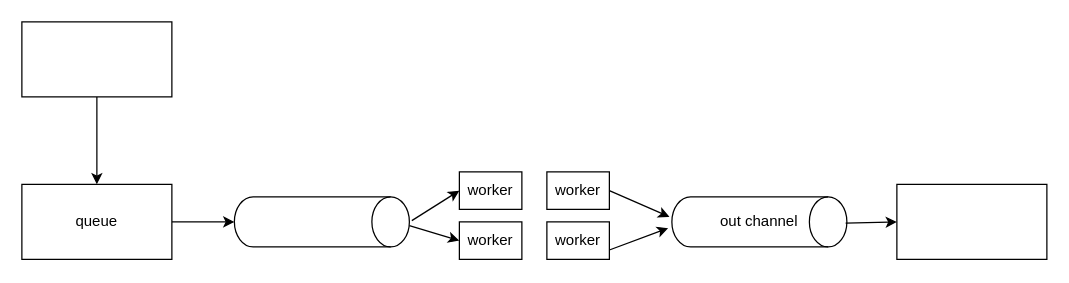
Image size: 1069x283. Some labels were removed from this diagram. The shapes that lost their labels are listed below. From the top down, each one's centre as x and y in pixels, then its label:
At pixel 96 59: "task".
At pixel 321 221: "in channel".
At pixel 971 221: "statticker".
